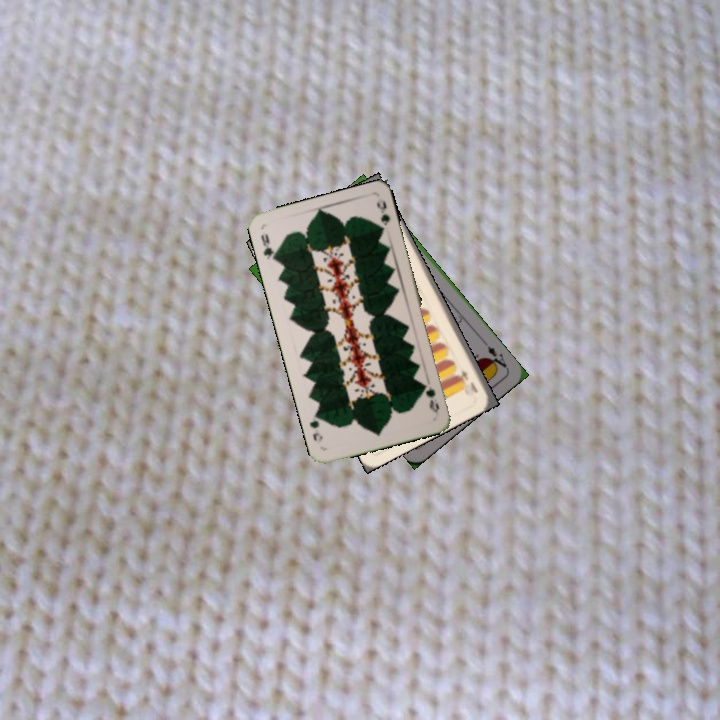E10: (456, 365, 480, 395)
EA: (480, 338, 511, 372)
G9: (257, 230, 281, 265), (419, 379, 442, 415)
